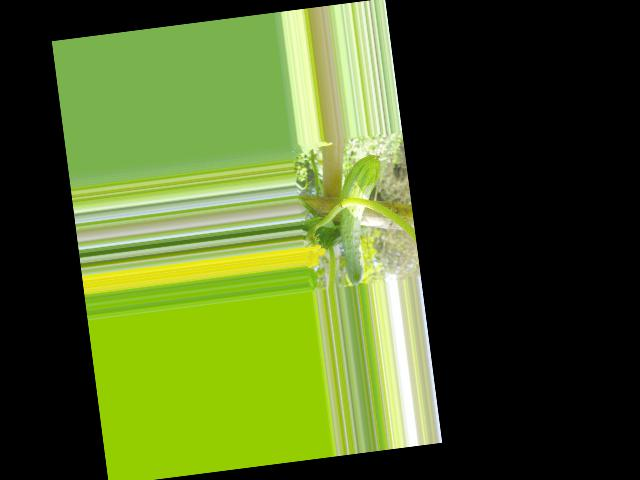cucumber: (331, 154, 394, 286)
